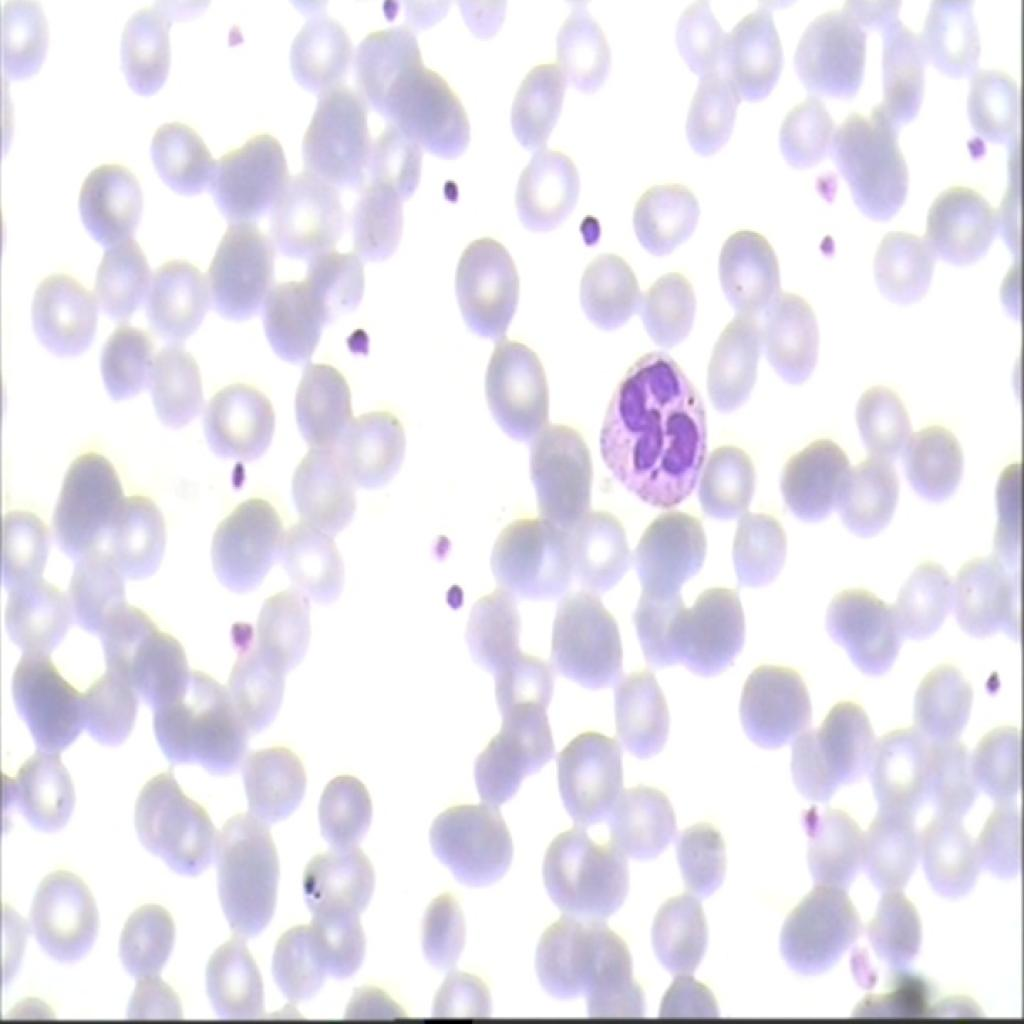Neutrofil: (592, 345, 708, 523)
Platelet: (412, 514, 452, 576), (804, 158, 840, 217), (573, 208, 616, 254), (972, 659, 1008, 713), (431, 160, 466, 215), (221, 12, 253, 64), (439, 569, 475, 615), (222, 610, 257, 654), (341, 315, 373, 361), (954, 130, 996, 165), (795, 784, 823, 832), (223, 453, 253, 491), (300, 864, 322, 905), (369, 0, 409, 21), (822, 226, 842, 263)
